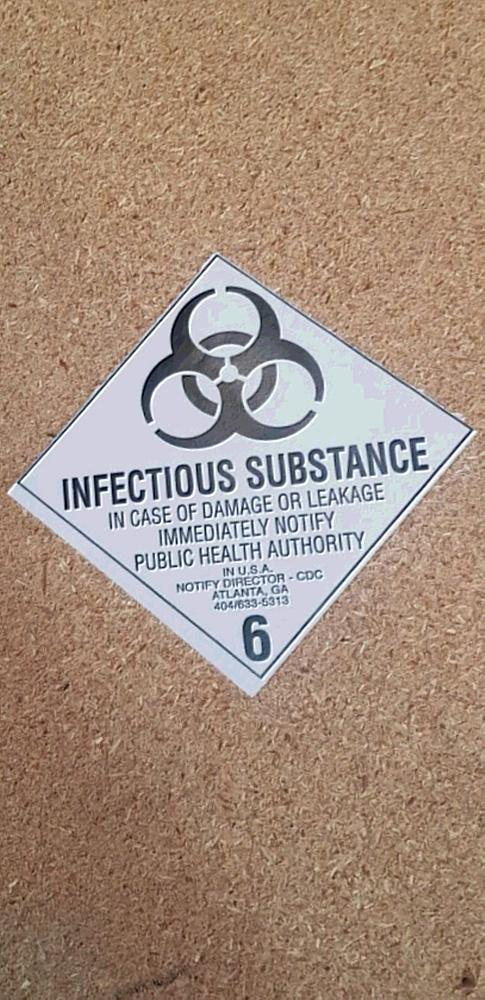infectious-substance: (1, 216, 485, 712)
